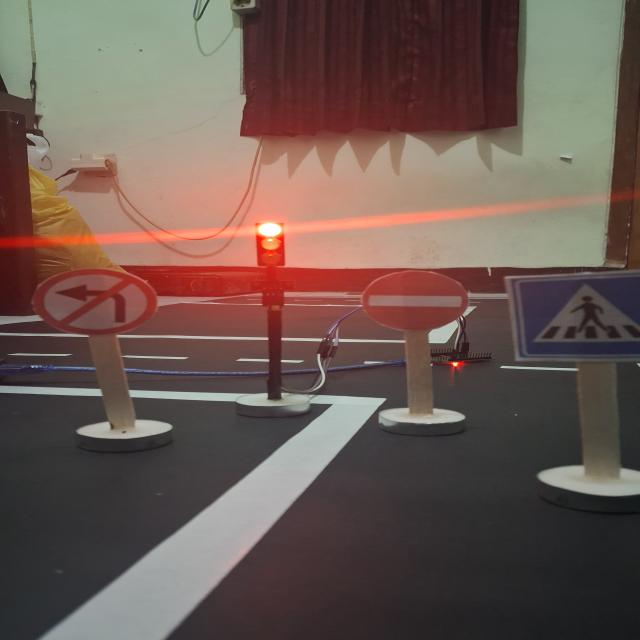Dilarang Belok Kiri: (31, 268, 158, 335)
Dilarang Masuk: (361, 270, 469, 331)
Lampu Merah: (252, 222, 288, 268)
Rambu Penyebrangan: (505, 276, 640, 360)
